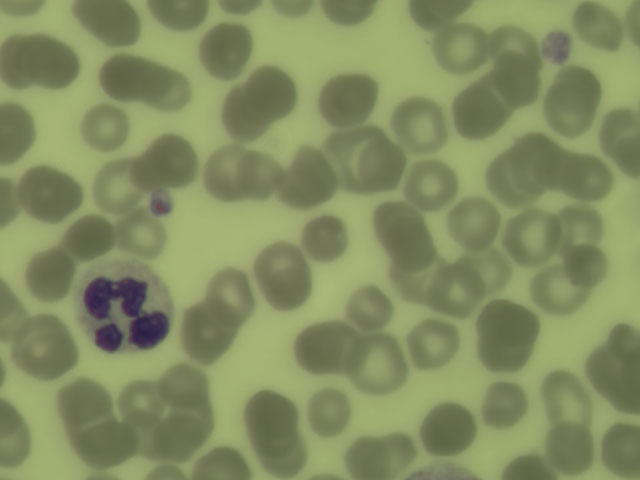Platelets: (542, 32, 570, 60), (149, 191, 175, 216)
RBC: (236, 389, 302, 446), (260, 244, 314, 312), (389, 96, 452, 154), (283, 146, 338, 211), (294, 321, 362, 372), (503, 208, 558, 271), (349, 334, 406, 394), (513, 133, 565, 195), (538, 371, 590, 432), (182, 309, 239, 364), (483, 300, 547, 348), (408, 316, 462, 372), (445, 191, 497, 248), (356, 136, 407, 194), (474, 329, 539, 374), (552, 203, 610, 253), (538, 90, 598, 138), (376, 202, 430, 255), (31, 35, 83, 90), (427, 398, 479, 452), (256, 435, 318, 480), (327, 135, 379, 188), (200, 29, 254, 80), (26, 167, 77, 220), (95, 160, 146, 213), (460, 249, 517, 296), (404, 162, 462, 207), (140, 59, 189, 112), (248, 67, 301, 116), (301, 216, 351, 267), (435, 267, 486, 317), (487, 157, 538, 207), (204, 272, 258, 319), (454, 83, 500, 138), (235, 156, 287, 204), (549, 421, 595, 475), (573, 2, 622, 52), (148, 137, 200, 184), (394, 256, 441, 307), (322, 80, 376, 124), (489, 63, 537, 112), (303, 386, 349, 437), (222, 89, 270, 136), (206, 148, 249, 200), (24, 254, 72, 300), (586, 344, 632, 392), (80, 418, 130, 462), (535, 269, 586, 312), (562, 154, 615, 194), (600, 426, 640, 479), (347, 284, 394, 329), (550, 67, 605, 105), (1, 104, 35, 164), (165, 405, 207, 453), (482, 380, 524, 428), (604, 365, 640, 418), (59, 384, 113, 419), (564, 240, 605, 286), (438, 27, 484, 67), (491, 29, 537, 69), (192, 449, 249, 480), (162, 363, 205, 404), (392, 230, 432, 273), (120, 215, 166, 251), (18, 320, 59, 360), (37, 337, 78, 377), (379, 428, 418, 470), (501, 451, 556, 480), (2, 37, 32, 89), (102, 9, 145, 45), (84, 113, 128, 148), (346, 440, 387, 477), (69, 1, 124, 28), (70, 222, 115, 255), (408, 1, 464, 27), (124, 382, 162, 420), (601, 110, 640, 146), (103, 54, 138, 94), (150, 1, 206, 26), (322, 1, 378, 25), (134, 418, 169, 456), (613, 139, 640, 183), (609, 326, 640, 362), (2, 429, 29, 464), (267, 1, 311, 20), (4, 1, 48, 18), (1, 401, 19, 438), (223, 2, 262, 16)
WBC: (73, 263, 177, 354)
